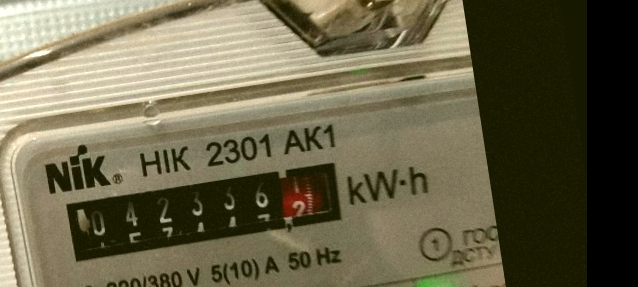0: (87, 207, 107, 237)
1: (287, 171, 302, 195)
2: (154, 193, 174, 224), (289, 197, 307, 217)
3: (216, 180, 237, 212), (185, 187, 204, 217)
4: (120, 197, 141, 228)
6: (250, 177, 272, 209)
screen: (52, 147, 357, 271)
